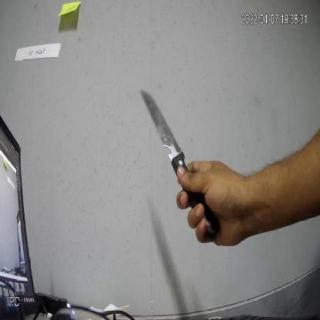knife: (137, 81, 225, 240)
